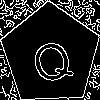Q: (25, 29, 77, 88)
